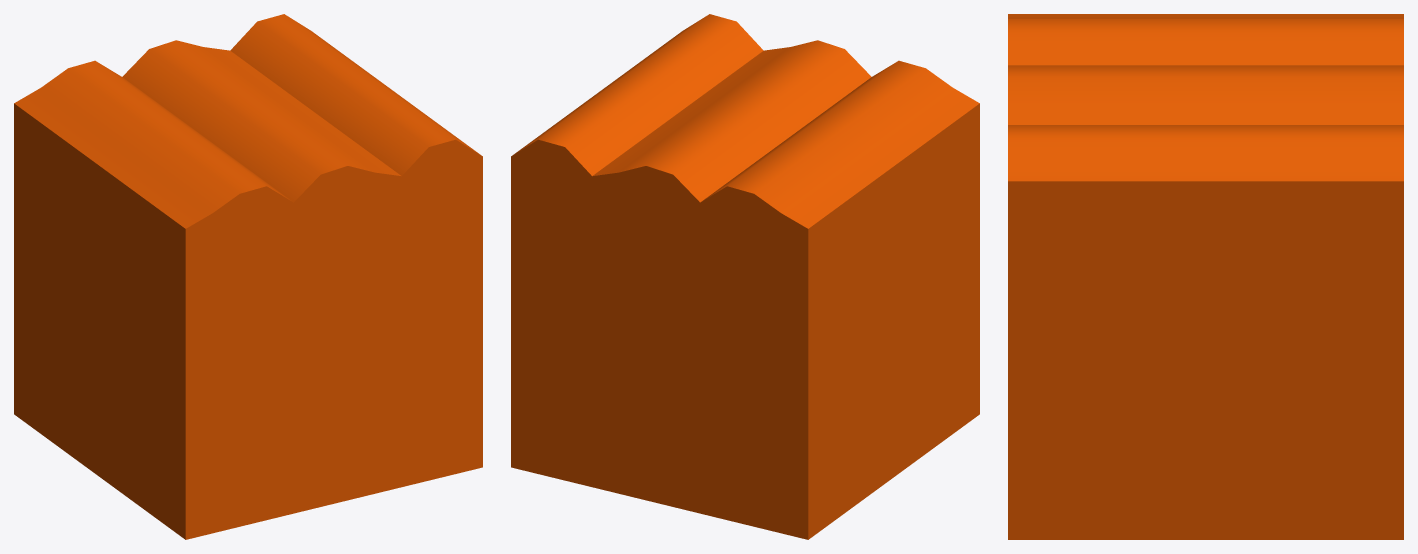
The model's file is Tile_Lava.fbx.
3 views of the same model, side by side, from view 1: azimuth 30°, elevation 25°; view 2: azimuth 150°, elevation 25°; view 3: azimuth 270°, elevation 25° (orthographic). The views are drawn at different scales.
Parts seen in each view (by area): view 1: Tile_Lava; view 2: Tile_Lava; view 3: Tile_Lava.
Part boxes in pixels (box(x1,y1,x2,y2)): Tile_Lava: box(14, 14, 482, 539); Tile_Lava: box(511, 14, 979, 539); Tile_Lava: box(1008, 14, 1403, 539).
Size of the model in its own units: 5 by 5.38 by 5.
